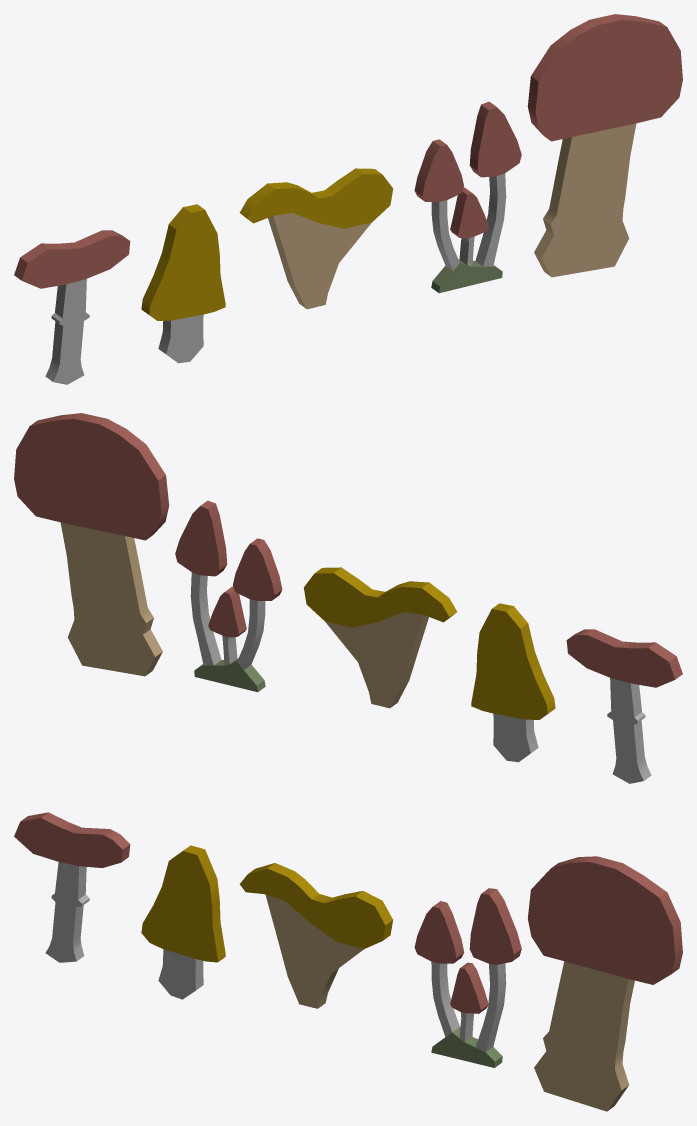
File: Mushroom_1.fbx
3 renders of one model, top to bottom at view 1: azimuth 30°, elevation 25°; view 2: azimuth 150°, elevation 25°; view 3: azimuth 330°, elevation 25°, orthographic.
Parts seen in each view (by area): view 1: pCube15, pCube9, pCube14, pCube7, pCube8; view 2: pCube15, pCube9, pCube14, pCube7, pCube8; view 3: pCube15, pCube14, pCube9, pCube7, pCube8.
Part boxes in pixels (x1,y1,x2,y2): pCube15: (527,14,682,277); pCube9: (239,168,393,309); pCube14: (414,101,521,293); pCube7: (141,204,225,363); pCube8: (14,230,130,384); pCube15: (14,413,169,676); pCube9: (303,567,457,708); pCube14: (175,500,282,692); pCube7: (471,603,555,762); pCube8: (566,629,682,783); pCube15: (527,856,682,1111); pCube14: (414,888,521,1067); pCube9: (239,863,392,1008); pCube7: (141,845,225,999); pCube8: (14,812,130,962).
Bounding box in the file's own units: 1.98 × 0.7019 × 0.0402.
